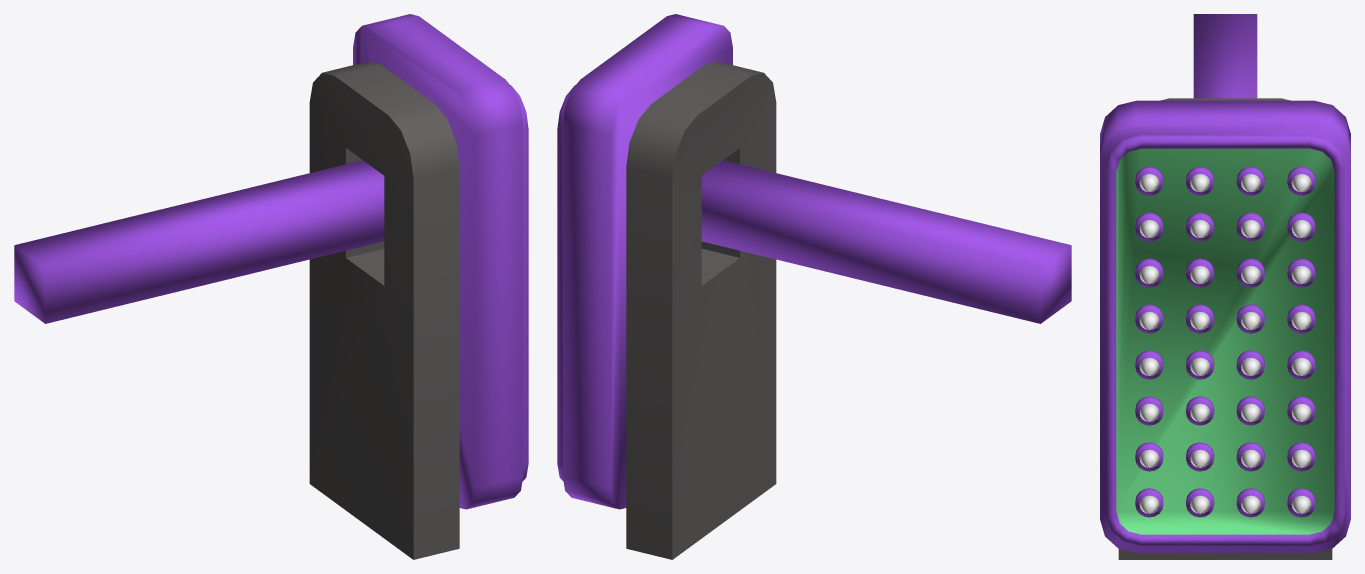
The model's file is Obstacle 9 V4.fbx.
The picture shows the model from 3 angles, left to right: view 1: azimuth 30°, elevation 25°; view 2: azimuth 150°, elevation 25°; view 3: azimuth 270°, elevation 25°; orthographic projection. The views are drawn at different scales.
Parts seen in each view (by area): view 1: O9 Part 1, O9 Part 2; view 2: O9 Part 1, O9 Part 2; view 3: O9 Part 1, O9 Part 2.
Part boxes in pixels (x1,y1,x2,y2): O9 Part 1: [14, 14, 528, 509]; O9 Part 2: [309, 61, 459, 559]; O9 Part 1: [557, 14, 1071, 509]; O9 Part 2: [626, 61, 776, 559]; O9 Part 1: [1100, 14, 1350, 552]; O9 Part 2: [1118, 98, 1332, 559].
Bounding box in the file's own units: 142 × 133 × 65.29.
Materials: 1 (1 with a texture image).
